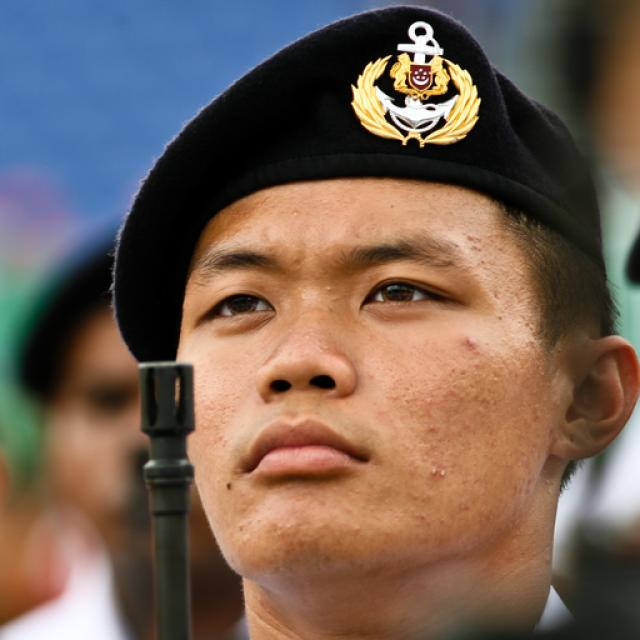Acne: (414, 452, 469, 493), (458, 225, 491, 259), (457, 333, 489, 356), (422, 419, 450, 442)
Pigmentation: (416, 359, 518, 425)
